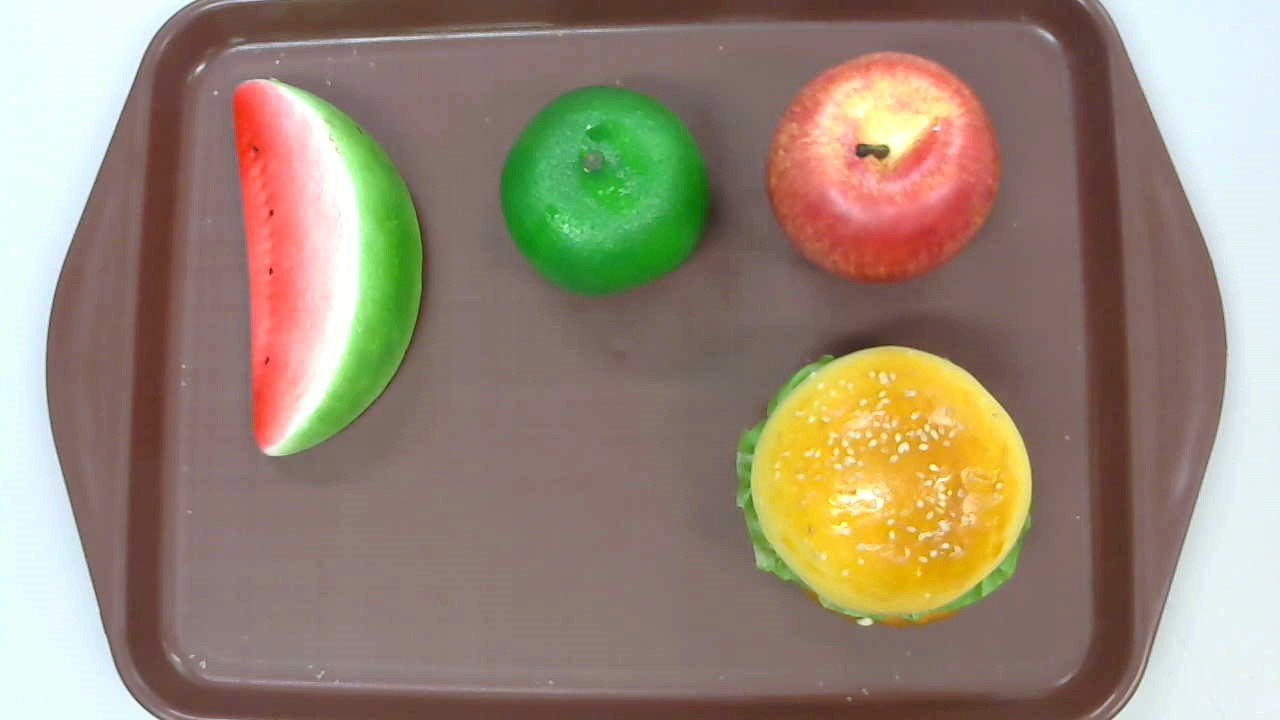green orange: (498, 84, 709, 297)
hamburger: (735, 346, 1034, 625)
red apple: (763, 49, 1001, 283)
water melon: (230, 78, 422, 459)
